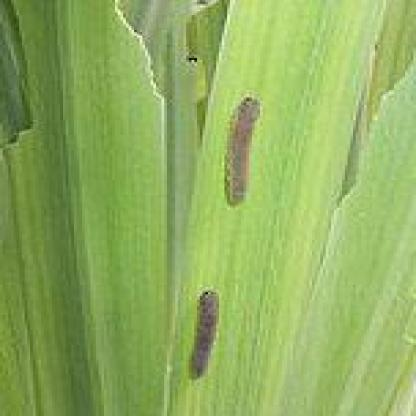sawfly: (218, 92, 268, 210), (184, 284, 228, 386)
